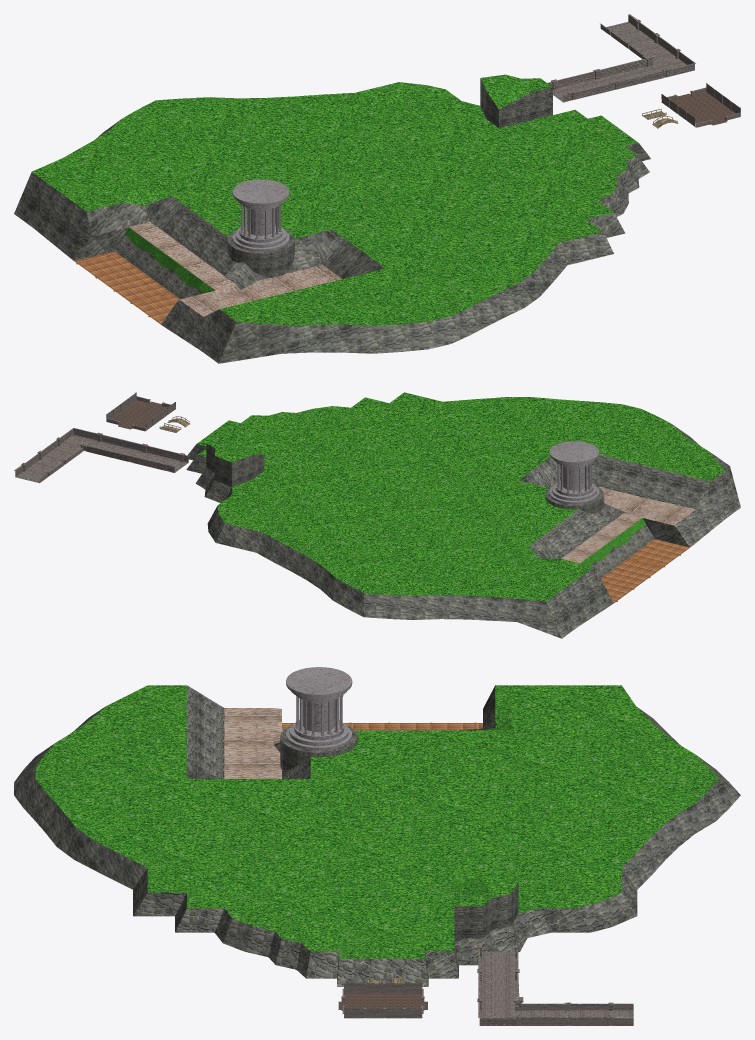
The model's file is JalanBagus.fbx.
3 views of the same model, one above another, from view 1: azimuth 30°, elevation 25°; view 2: azimuth 150°, elevation 25°; view 3: azimuth 270°, elevation 25° (orthographic). The views are drawn at different scales.
Parts seen in each view (by area): view 1: Plane.006, Plane.007, Plane.008, Plane.002, Plane.005, Plane.003, Plane.001; view 2: Plane.006, Plane.007, Plane.008, Plane.002, Plane.005, Plane.003, Plane.001; view 3: Plane.006, Plane.007, Plane.008, Plane.005, Plane.002, Plane.001, Plane.003.
Boxes of the visible parts, left/top/right/bottom form: Plane.006: left=32, top=74, right=638, bottom=325; Plane.007: left=14, top=119, right=650, bottom=363; Plane.008: left=227, top=179, right=294, bottom=277; Plane.002: left=547, top=14, right=695, bottom=102; Plane.005: left=553, top=22, right=686, bottom=102; Plane.003: left=671, top=92, right=735, bottom=125; Plane.001: left=661, top=83, right=740, bottom=127; Plane.006: left=197, top=392, right=725, bottom=602; Plane.007: left=186, top=424, right=740, bottom=638; Plane.008: left=545, top=441, right=603, bottom=513; Plane.002: left=14, top=428, right=188, bottom=482; Plane.005: left=16, top=435, right=187, bottom=482; Plane.003: left=111, top=400, right=166, bottom=429; Plane.001: left=106, top=392, right=175, bottom=431; Plane.006: left=35, top=685, right=718, bottom=958; Plane.007: left=14, top=685, right=740, bottom=986; Plane.008: left=280, top=667, right=357, bottom=770; Plane.005: left=480, top=951, right=633, bottom=1025; Plane.002: left=477, top=943, right=633, bottom=1025; Plane.001: left=341, top=983, right=424, bottom=1018; Plane.003: left=338, top=993, right=427, bottom=1009.
Size of the model in its own units: 27762 by 3990 by 24288.
Materials: 9 (9 with a texture image).
